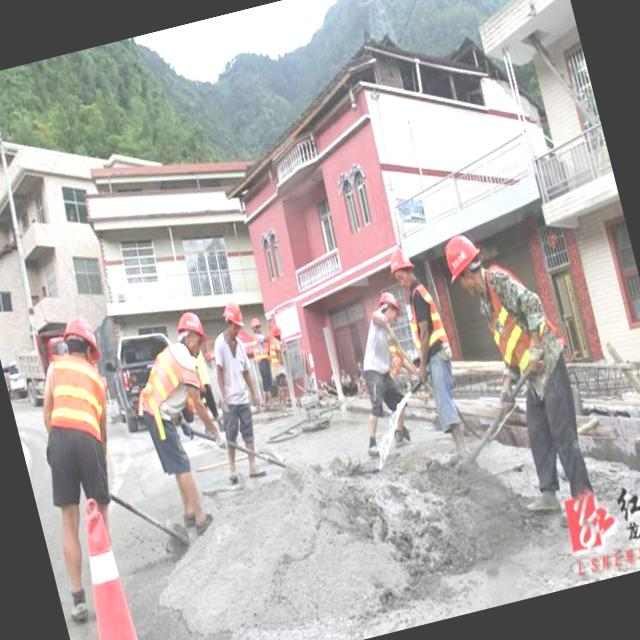helmet: (58, 306, 101, 357), (440, 230, 484, 278), (174, 301, 206, 343), (215, 296, 248, 332), (378, 288, 404, 322), (386, 245, 412, 272)
no-vest: (214, 335, 262, 420), (354, 314, 398, 392)
vest: (472, 272, 555, 392), (126, 342, 214, 432), (46, 343, 118, 452), (400, 282, 452, 361)
